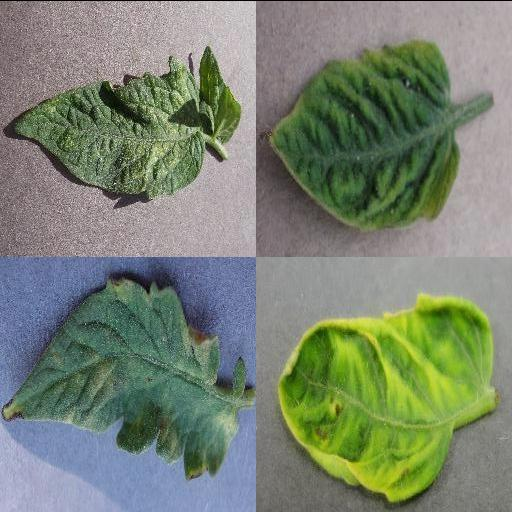Leaf Mold: (2, 274, 240, 478)
Spider Mites: (11, 45, 241, 199)
Yellow Leaf Curl Virus: (276, 292, 496, 503), (267, 40, 461, 232)
